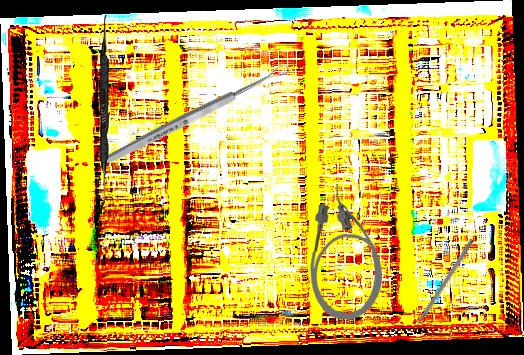Cannula: (309, 183, 384, 321)
Hook Surgical: (406, 238, 475, 340)
Spatula Surgical: (96, 15, 112, 212)
Surgical Spoon: (101, 61, 292, 168)
